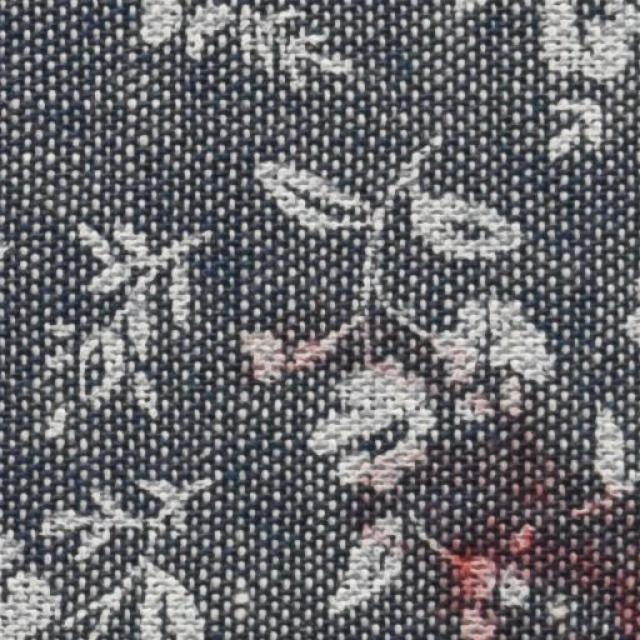Stain: (430, 467, 639, 639)
